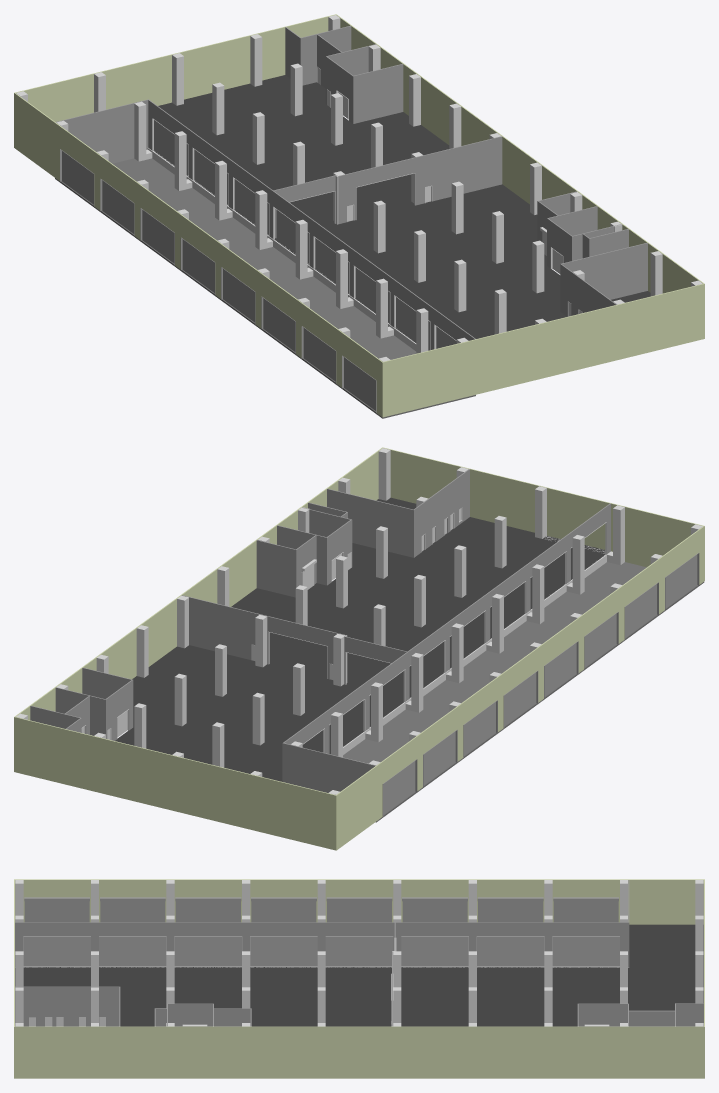
Rendered from dryWearhouse.glb.
The picture shows the model from 3 angles, top to bottom: view 1: azimuth 30°, elevation 25°; view 2: azimuth 150°, elevation 25°; view 3: azimuth 270°, elevation 25°; orthographic projection. The views are drawn at different scales.
Visible parts, largest first — view 1: 床 現場打ちコンクリート 225 mm [222021], 標準壁 PC - 150 mm [205606], 標準壁 PC - 150 mm [206352], 標準壁 PC - 150 mm [206082], 床 現場打ちコンクリート 225 mm [213497], 標準壁 PC - 150 mm [205902], 標準壁 内壁 - 135 mm 間仕切り(2時間) [206784], 標準壁 内壁 - 135 mm 間仕切り(2時間) [218309], 標準壁 内壁 - 135 mm 間仕切り(2時間) [207232], 標準壁 内壁 - 135 mm 間仕切り(2時間) [213353], 標準壁 内壁 - 135 mm 間仕切り(2時間) [208017], 標準壁 基礎 - 300 mm [224240] (+31 smaller); view 2: 床 現場打ちコンクリート 225 mm [222021], 標準壁 PC - 150 mm [206082], 標準壁 PC - 150 mm [206352], 標準壁 PC - 150 mm [205606], 床 現場打ちコンクリート 225 mm [213497], 標準壁 PC - 150 mm [205902], 標準壁 内壁 - 135 mm 間仕切り(2時間) [206784], 標準壁 内壁 - 135 mm 間仕切り(2時間) [218309], 標準壁 内壁 - 135 mm 間仕切り(2時間) [207232], 標準壁 内壁 - 135 mm 間仕切り(2時間) [213353], 標準壁 内壁 - 135 mm 間仕切り(2時間) [206942], 標準壁 内壁 - 135 mm 間仕切り(2時間) [209806] (+32 smaller); view 3: 標準壁 PC - 150 mm [205902], 床 現場打ちコンクリート 225 mm [222021], 床 現場打ちコンクリート 225 mm [213497], 標準壁 PC - 150 mm [206352], 標準壁 内壁 - 135 mm 間仕切り(2時間) [206784], 標準壁 内壁 - 135 mm 間仕切り(2時間) [206942], 床 現場打ちコンクリート 225 mm [213605], TD_ドア_防火シャッター SS-2(S_8500×4500_SH1) [217411], TD_ドア_防火シャッター SS-2(S_8500×4500_SH1) [218079], TD_ドア_防火シャッター SS-2(S_8500×4500_SH1) [217763], TD_ドア_防火シャッター SS-2(S_8500×4500_SH1) [217870], TD_ドア_防火シャッター SS-2(S_8500×4500_SH1) [218014] (+17 smaller).
Boxes of the visible parts, bbox=[...] form: 床 現場打ちコンクリート 225 mm [222021]: bbox=[153, 75, 650, 350]; 標準壁 PC - 150 mm [205606]: bbox=[382, 283, 704, 417]; 標準壁 PC - 150 mm [206352]: bbox=[14, 93, 382, 416]; 標準壁 PC - 150 mm [206082]: bbox=[14, 14, 335, 147]; 床 現場打ちコンクリート 225 mm [213497]: bbox=[55, 158, 475, 418]; 標準壁 PC - 150 mm [205902]: bbox=[336, 14, 703, 293]; 標準壁 内壁 - 135 mm 間仕切り(2時間) [206784]: bbox=[148, 100, 475, 349]; 標準壁 内壁 - 135 mm 間仕切り(2時間) [218309]: bbox=[338, 136, 502, 224]; 標準壁 内壁 - 135 mm 間仕切り(2時間) [207232]: bbox=[561, 243, 647, 299]; 標準壁 内壁 - 135 mm 間仕切り(2時間) [213353]: bbox=[55, 99, 148, 163]; 標準壁 内壁 - 135 mm 間仕切り(2時間) [208017]: bbox=[352, 64, 403, 123]; 標準壁 基礎 - 300 mm [224240]: bbox=[147, 148, 416, 351]; 床 現場打ちコンクリート 225 mm [222021]: bbox=[115, 497, 605, 781]; 標準壁 PC - 150 mm [206082]: bbox=[15, 717, 336, 850]; 標準壁 PC - 150 mm [206352]: bbox=[336, 526, 704, 849]; 標準壁 PC - 150 mm [205606]: bbox=[382, 447, 704, 580]; 床 現場打ちコンクリート 225 mm [213497]: bbox=[343, 562, 704, 822]; 標準壁 PC - 150 mm [205902]: bbox=[14, 448, 382, 771]; 標準壁 内壁 - 135 mm 間仕切り(2時間) [206784]: bbox=[283, 503, 610, 753]; 標準壁 内壁 - 135 mm 間仕切り(2時間) [218309]: bbox=[181, 595, 345, 679]; 標準壁 内壁 - 135 mm 間仕切り(2時間) [207232]: bbox=[327, 488, 412, 557]; 標準壁 内壁 - 135 mm 間仕切り(2時間) [213353]: bbox=[282, 743, 375, 792]; 標準壁 内壁 - 135 mm 間仕切り(2時間) [206942]: bbox=[413, 469, 469, 557]; 標準壁 内壁 - 135 mm 間仕切り(2時間) [209806]: bbox=[256, 540, 295, 597]; 標準壁 PC - 150 mm [205902]: bbox=[15, 1026, 704, 1078]; 床 現場打ちコンクリート 225 mm [222021]: bbox=[15, 967, 703, 1026]; 床 現場打ちコンクリート 225 mm [213497]: bbox=[23, 937, 619, 966]; 標準壁 PC - 150 mm [206352]: bbox=[15, 879, 703, 924]; 標準壁 内壁 - 135 mm 間仕切り(2時間) [206784]: bbox=[15, 922, 628, 966]; 標準壁 内壁 - 135 mm 間仕切り(2時間) [206942]: bbox=[15, 986, 119, 1026]; 床 現場打ちコンクリート 225 mm [213605]: bbox=[629, 924, 703, 966]; TD_ドア_防火シャッター SS-2(S_8500×4500_SH1) [217411]: bbox=[477, 897, 543, 922]; TD_ドア_防火シャッター SS-2(S_8500×4500_SH1) [218079]: bbox=[175, 897, 241, 922]; TD_ドア_防火シャッター SS-2(S_8500×4500_SH1) [217763]: bbox=[402, 897, 467, 922]; TD_ドア_防火シャッター SS-2(S_8500×4500_SH1) [217870]: bbox=[553, 897, 618, 922]; TD_ドア_防火シャッター SS-2(S_8500×4500_SH1) [218014]: bbox=[251, 897, 316, 922].
Bounding box in the file's own units: 46.71 × 7.83 × 92.35.
